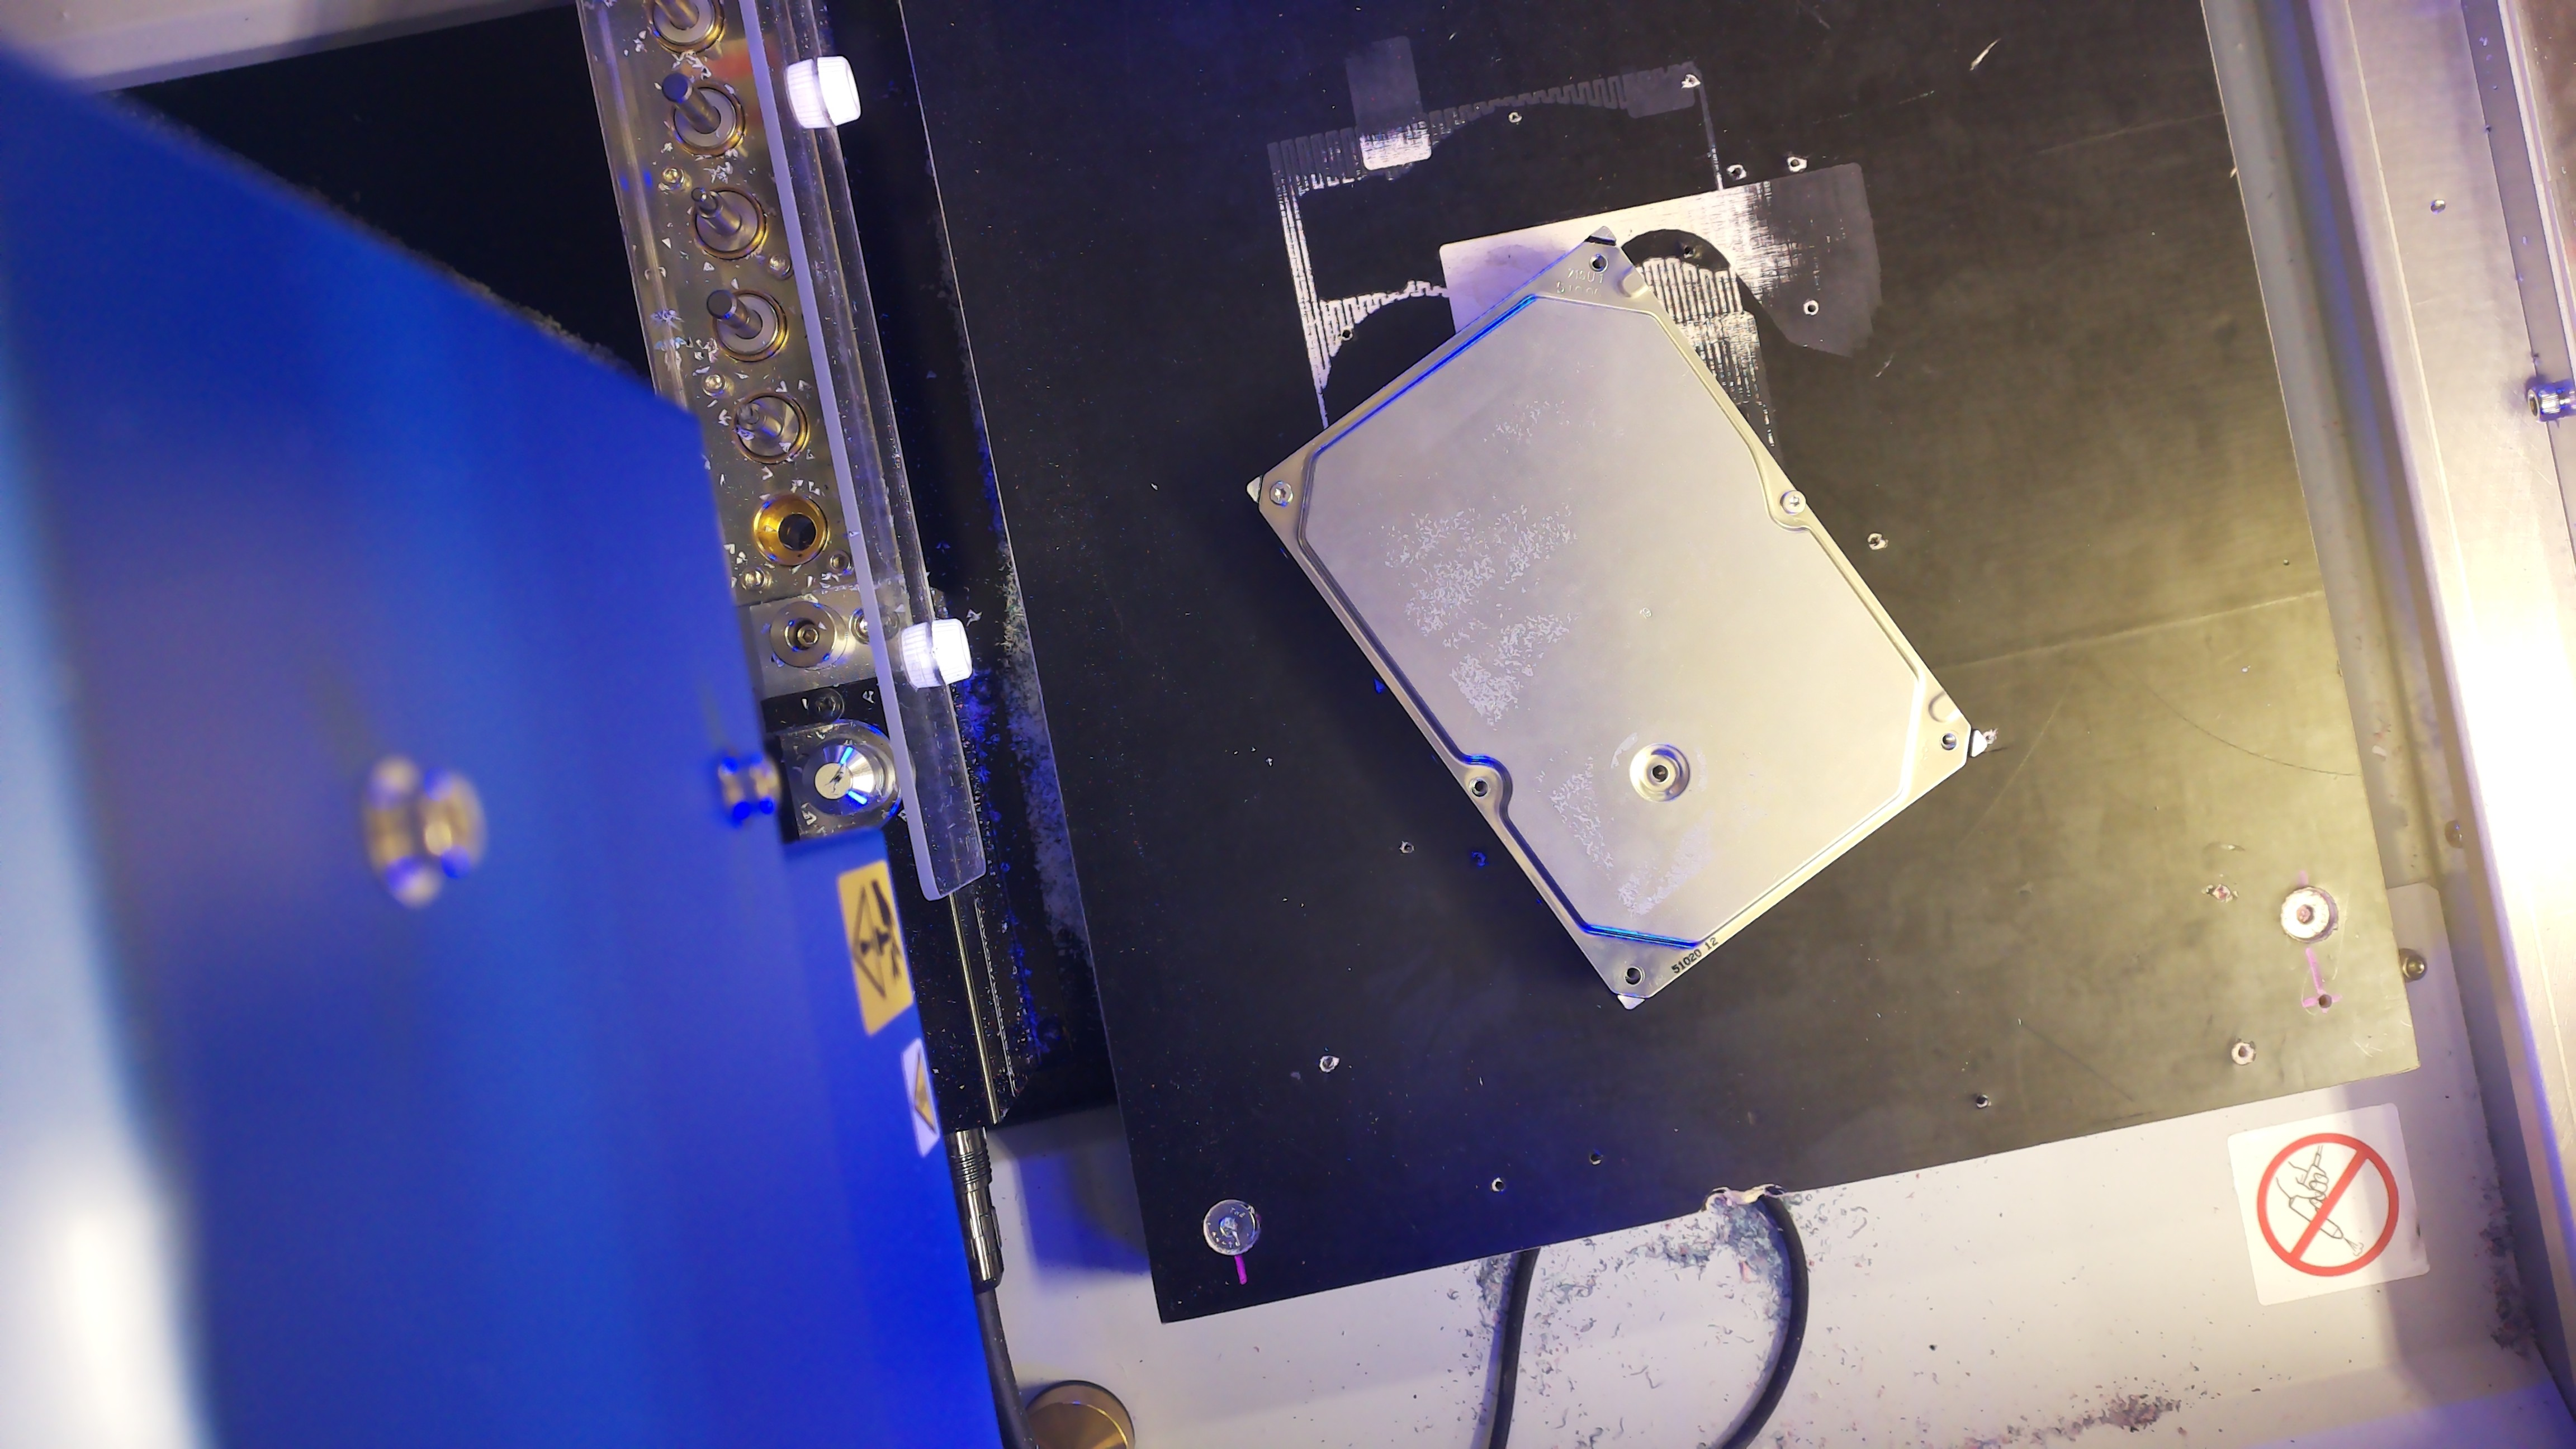Hole: (1470, 777, 1490, 798), (1939, 731, 1959, 752), (1589, 253, 1608, 272), (1651, 763, 1670, 782), (1624, 966, 1644, 985)
Screw: (1269, 479, 1293, 506), (1782, 490, 1806, 515)
